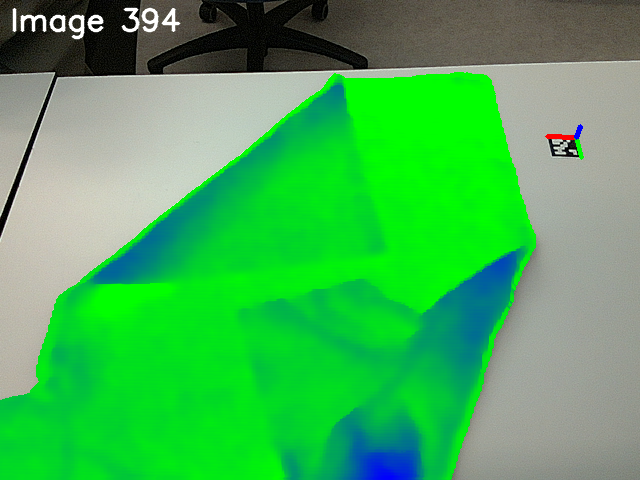V: (320, 200, 402, 266), (220, 290, 302, 348)
